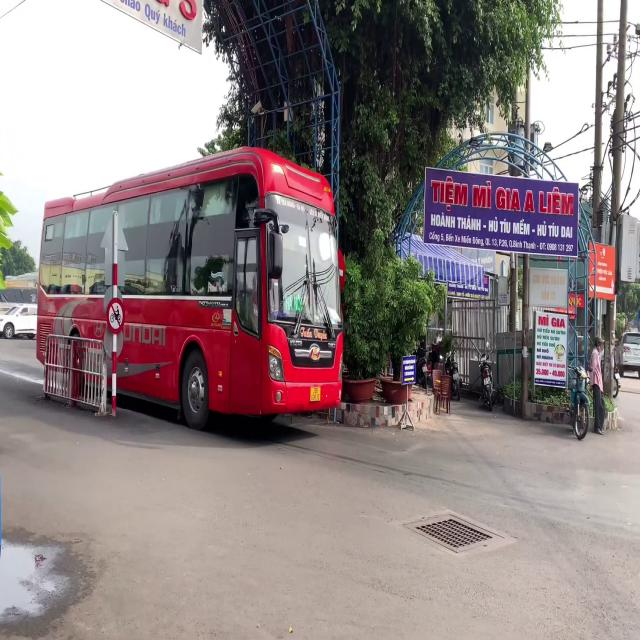bien_vang: (310, 385, 322, 403)
